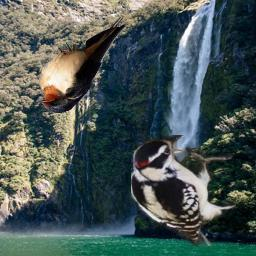Swallow: (37, 17, 125, 113)
Woodpecker: (131, 135, 236, 246)
